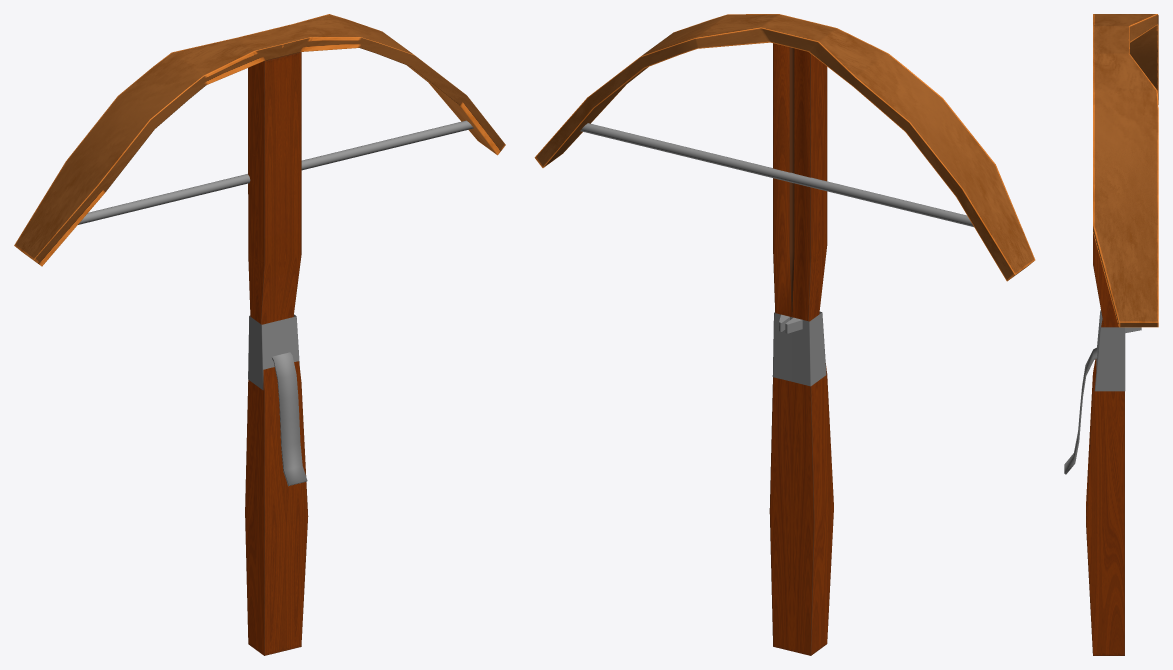
The model's file is Crossbow.fbx.
3 views of the same model, side by side, from view 1: azimuth 30°, elevation 25°; view 2: azimuth 150°, elevation 25°; view 3: azimuth 270°, elevation 25° (orthographic).
Visible parts, largest first — view 1: Handle, Limb, String, Trigger, Frame Trigger; view 2: Handle, Limb, String, Frame Trigger; view 3: Limb, Handle, Frame Trigger, Trigger.
Boxes of the visible parts, x1,y1,x2,y2 form: Handle: (245,52,308,655); Limb: (14,14,505,266); String: (78,120,473,224); Trigger: (272,352,307,486); Frame Trigger: (248,314,299,389); Handle: (769,43,833,655); Limb: (534,14,1035,281); String: (580,123,973,226); Frame Trigger: (772,311,826,386); Limb: (1093,14,1158,327); Handle: (1086,233,1124,655); Frame Trigger: (1094,310,1125,391); Trigger: (1064,347,1097,474).
Size of the model in its own units: 415 by 510 by 71.75.
Materials: 1 (1 with a texture image).
